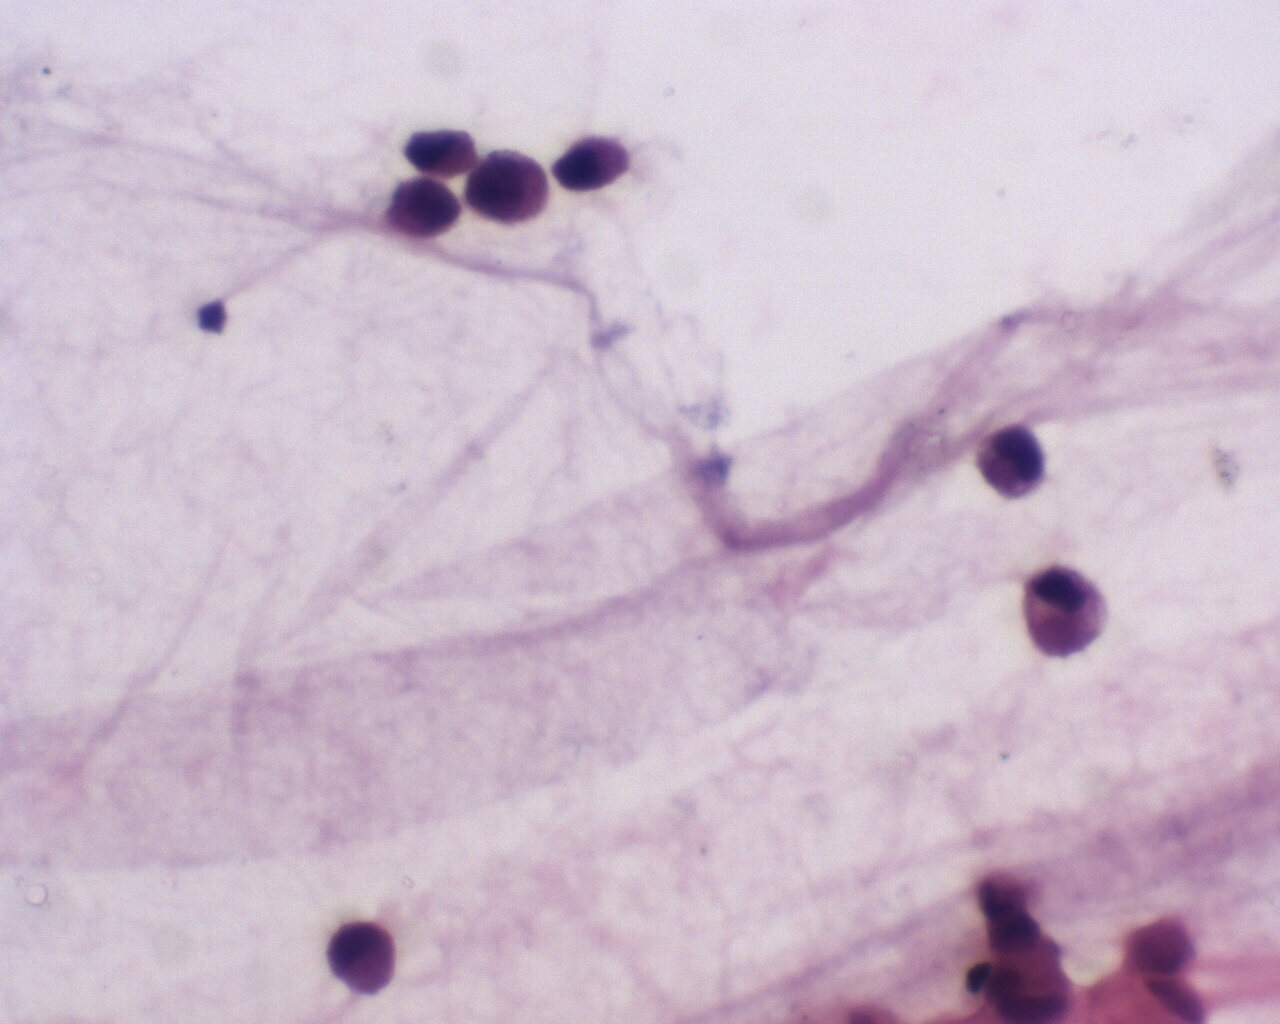ab: (467, 143, 555, 229), (976, 420, 1058, 506), (548, 126, 637, 197), (399, 116, 482, 181), (385, 177, 459, 245)
histo: (1014, 565, 1117, 664)
